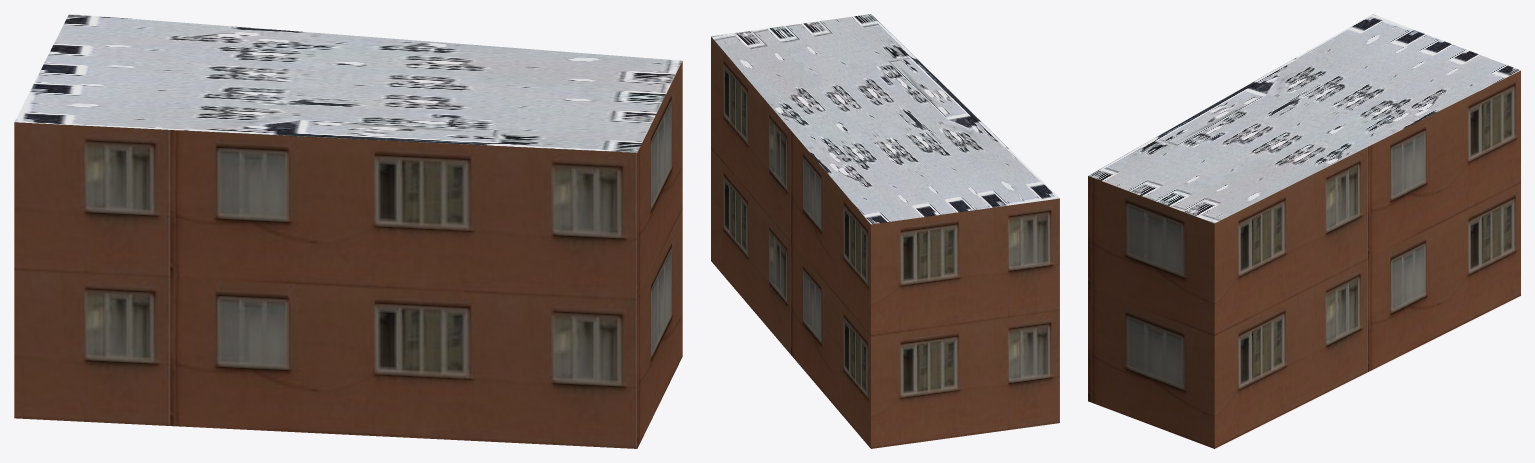
The model's file is ResTex__265.fbx.
3 views of the same model, side by side, from view 1: azimuth 30°, elevation 25°; view 2: azimuth 150°, elevation 25°; view 3: azimuth 270°, elevation 25° (orthographic). The views are drawn at different scales.
Visible parts, largest first — view 1: CityEngineMaterial_20_m, CityEngineMaterial_m; view 2: CityEngineMaterial_20_m, CityEngineMaterial_m; view 3: CityEngineMaterial_20_m, CityEngineMaterial_m.
Boxes of the visible parts, x1,y1,x2,y2 form: CityEngineMaterial_20_m: (14,61,682,448); CityEngineMaterial_m: (14,14,682,152); CityEngineMaterial_20_m: (711,37,1059,448); CityEngineMaterial_m: (711,14,1059,224); CityEngineMaterial_20_m: (1088,70,1520,448); CityEngineMaterial_m: (1088,14,1520,223).
Size of the model in its own units: 11.96 by 6 by 10.44.
2 materials, 2 textured.
